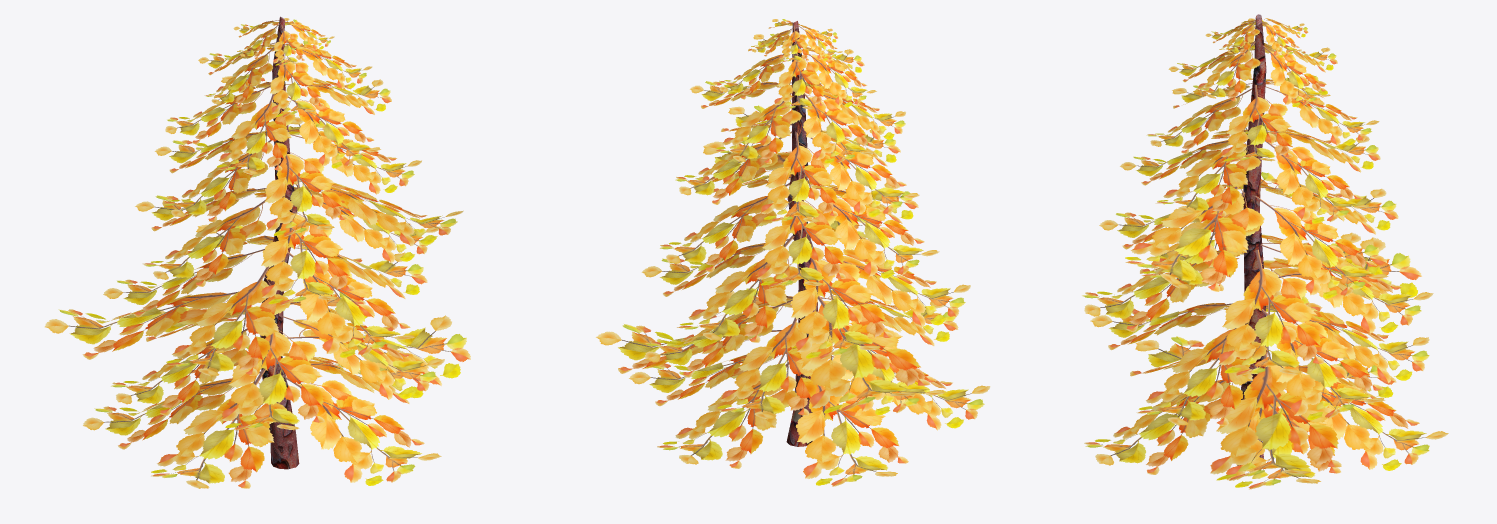
The picture shows the model from 3 angles, left to right: view 1: azimuth 30°, elevation 25°; view 2: azimuth 150°, elevation 25°; view 3: azimuth 270°, elevation 25°; orthographic projection. The views are drawn at different scales.
Visible parts, largest first — view 1: Pine_1; view 2: Pine_1; view 3: Pine_1.
Boxes of the visible parts, x1,y1,x2,y2 form: Pine_1: (44,16,470,488); Pine_1: (596,19,990,486); Pine_1: (1082,14,1448,489).
Bounding box in the file's own units: 7.73 × 7.58 × 6.76.
Materials: 2 (2 with a texture image).
